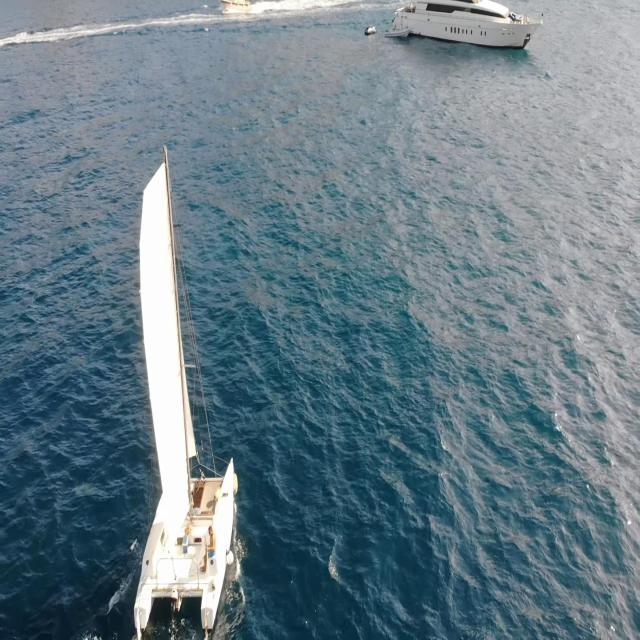boat: (394, 0, 545, 55), (383, 19, 409, 43), (364, 22, 378, 40)
sailboat: (110, 143, 246, 629)
